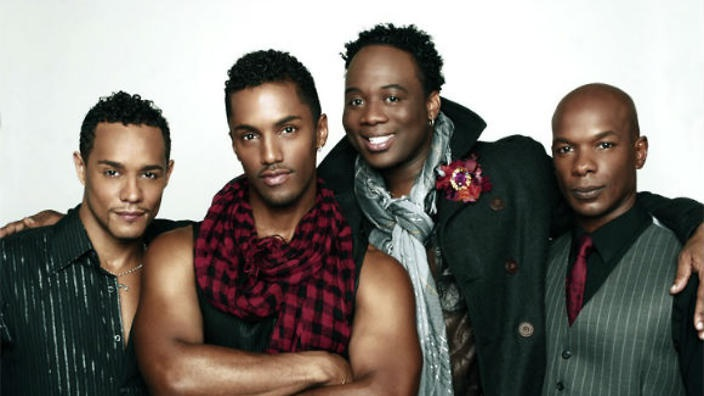bad: (225, 106, 315, 196), (86, 146, 175, 236), (335, 66, 424, 156), (544, 126, 633, 216)
